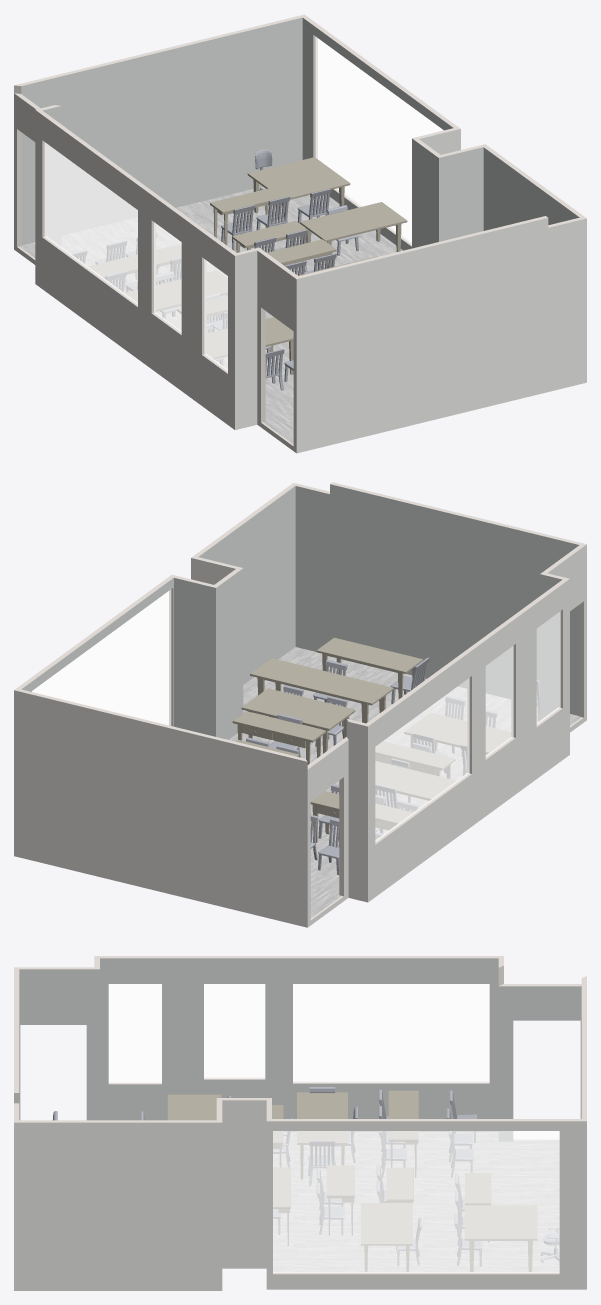
File: alh2.6.glb
3 views of the same model, one above another, from view 1: azimuth 30°, elevation 25°; view 2: azimuth 150°, elevation 25°; view 3: azimuth 270°, elevation 25° (orthographic). The views are drawn at different scales.
Visible parts, largest first — view 1: wall_1, wall_16, wall_11, window_1, window_5, floor_Dining_Room, window_3, window_7, wall_0, wall_22, wall_24, wall_32 (+26 smaller); view 2: wall_2, wall_14, wall_11, window_1, window_5, wall_22, window_3, window_7, floor_Dining_Room, wall_18, wall_20, wall_7 (+25 smaller); view 3: window_1, window_5, wall_5, wall_34, floor_Dining_Room, window_3, window_7, wall_10, wall_4, wall_30, window_0, window_4 (+19 smaller).
Boxes of the visible parts, <box> form: wall_1: <box>296,218,586,453</box>; wall_16: <box>21,17,302,245</box>; wall_11: <box>35,110,234,429</box>; window_1: <box>316,37,443,243</box>; window_5: <box>316,37,442,243</box>; floor_Dining_Room: <box>19,186,402,443</box>; window_3: <box>45,142,137,304</box>; window_7: <box>45,143,137,304</box>; wall_0: <box>235,250,257,429</box>; wall_22: <box>483,147,579,230</box>; wall_24: <box>439,147,483,241</box>; wall_32: <box>302,18,452,250</box>; wall_2: <box>14,690,307,927</box>; wall_14: <box>295,484,579,715</box>; wall_11: <box>368,579,569,902</box>; window_1: <box>32,590,170,725</box>; window_5: <box>32,590,170,725</box>; wall_22: <box>199,486,295,684</box>; window_3: <box>375,678,469,841</box>; window_7: <box>375,678,469,841</box>; floor_Dining_Room: <box>229,647,581,917</box>; wall_18: <box>174,578,215,736</box>; wall_20: <box>216,568,243,739</box>; wall_7: <box>348,722,367,902</box>; window_1: <box>273,1131,559,1272</box>; window_5: <box>273,1131,559,1272</box>; wall_5: <box>14,1122,222,1290</box>; wall_34: <box>100,958,498,1131</box>; floor_Dining_Room: <box>273,1132,559,1271</box>; window_3: <box>293,984,489,1082</box>; window_7: <box>293,984,489,1082</box>; wall_10: <box>266,1121,586,1289</box>; wall_4: <box>222,1100,266,1268</box>; wall_30: <box>19,969,99,1120</box>; window_0: <box>204,984,264,1078</box>; window_4: <box>204,984,264,1078</box>.
Size of the model in its own units: 6.84 by 3.64 by 10.59.
Materials: 71 (1 with a texture image).
